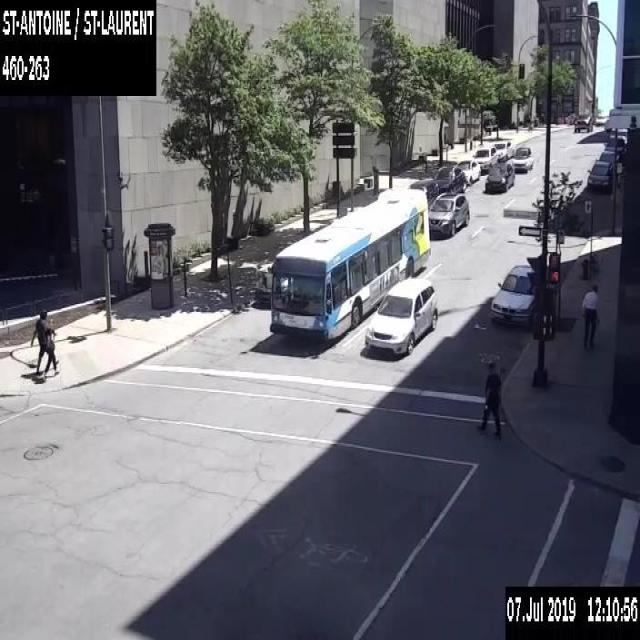bus: (269, 185, 431, 341)
pedestrian: (475, 360, 501, 437), (29, 308, 59, 374), (580, 282, 598, 350), (40, 317, 59, 381)
vehicle: (364, 276, 437, 354), (487, 263, 539, 329), (427, 191, 469, 235), (407, 178, 440, 208), (484, 161, 514, 191), (435, 164, 466, 193), (587, 160, 611, 192), (472, 144, 497, 172), (254, 264, 272, 302), (456, 157, 480, 184), (595, 149, 621, 173), (511, 145, 532, 171), (493, 139, 514, 161), (604, 136, 626, 154), (574, 112, 592, 132), (609, 127, 627, 143), (595, 112, 607, 125)
